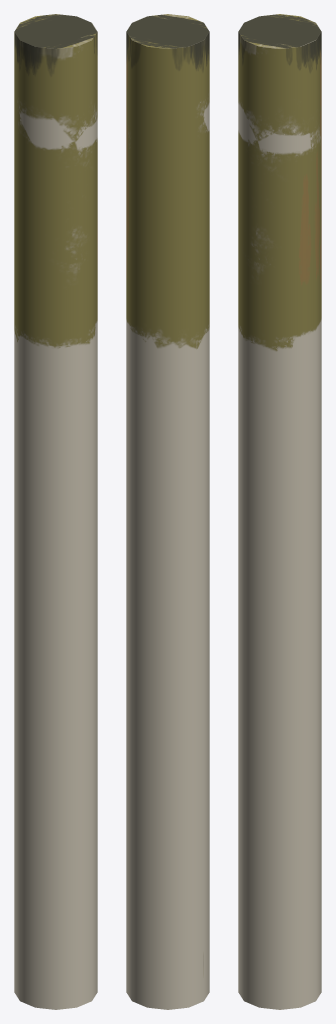
File: fajka_sztuka.fbx
3 renders of one model, left to right at view 1: azimuth 30°, elevation 25°; view 2: azimuth 150°, elevation 25°; view 3: azimuth 330°, elevation 25°, orthographic.
Visible parts, largest first — view 1: Cylinder; view 2: Cylinder; view 3: Cylinder.
Boxes of the visible parts, x1,y1,x2,y2 form: Cylinder: (14, 14, 97, 1009); Cylinder: (126, 14, 209, 1009); Cylinder: (238, 14, 321, 1009).
Bounding box in the file's own units: 0.5402 × 6.89 × 0.5402.
